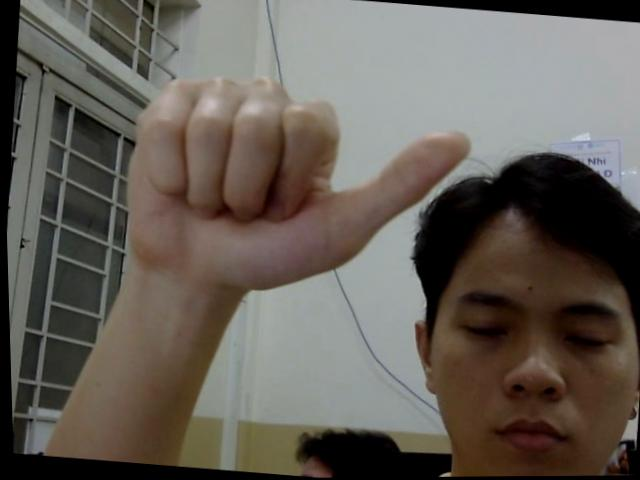A: (113, 55, 484, 295)
